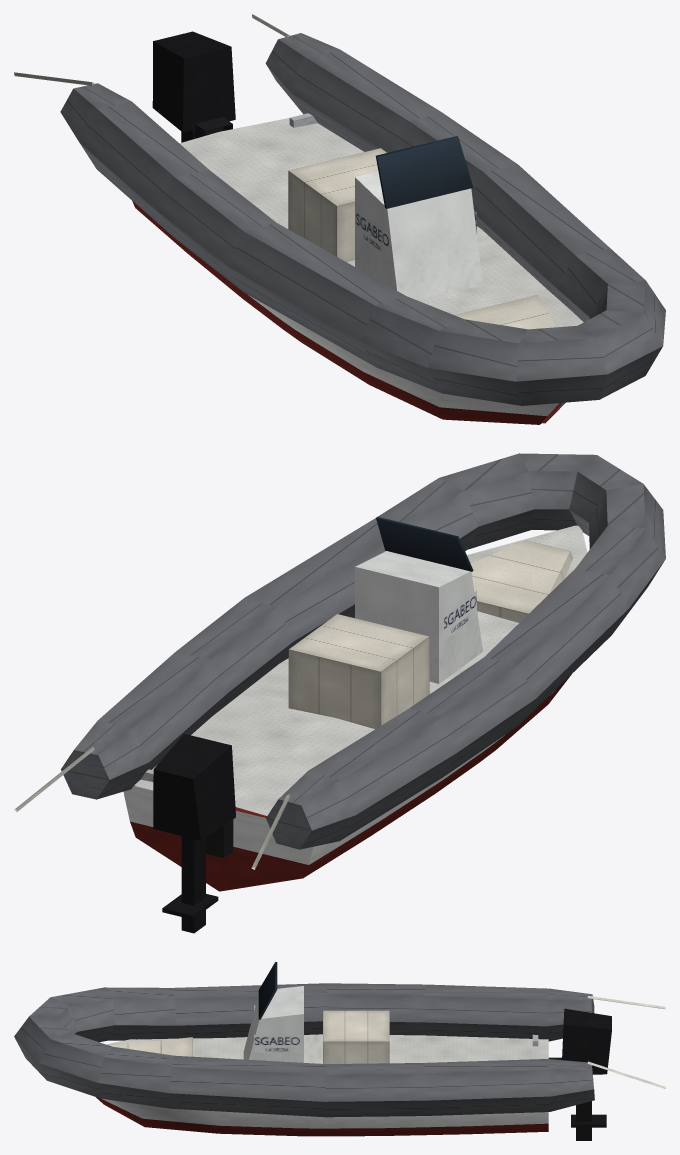
Rendered from SM_Morin_Barca_Gommone_Grigio_LOD1.fbx.
The picture shows the model from 3 angles, top to bottom: view 1: azimuth 30°, elevation 25°; view 2: azimuth 150°, elevation 25°; view 3: azimuth 270°, elevation 25°; orthographic projection. The views are drawn at different scales.
Visible parts, largest first — view 1: SM_Morin_Barca_Gommone_Grigio_LOD1; view 2: SM_Morin_Barca_Gommone_Grigio_LOD1; view 3: SM_Morin_Barca_Gommone_Grigio_LOD1.
Boxes of the visible parts, x1,y1,x2,y2 form: SM_Morin_Barca_Gommone_Grigio_LOD1: [14, 14, 665, 424]; SM_Morin_Barca_Gommone_Grigio_LOD1: [14, 453, 665, 933]; SM_Morin_Barca_Gommone_Grigio_LOD1: [14, 962, 665, 1140].
Bounding box in the file's own units: 220 × 586 × 162.
1 material, 1 textured.
